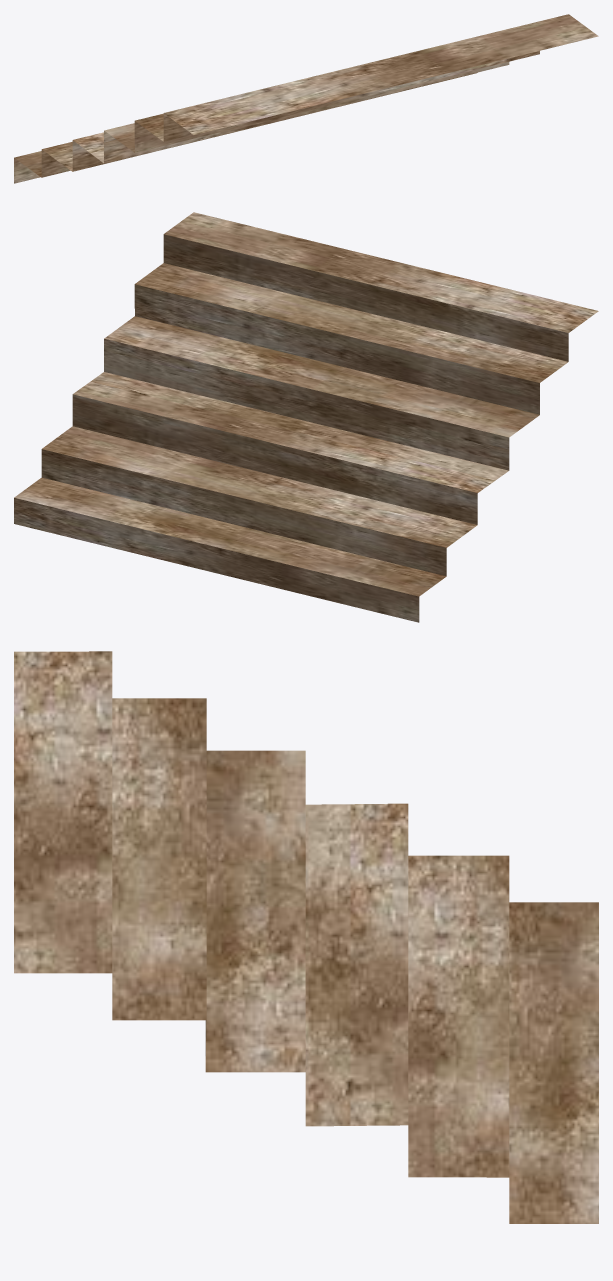
3 views of the same model, one above another, from view 1: azimuth 30°, elevation 25°; view 2: azimuth 150°, elevation 25°; view 3: azimuth 270°, elevation 25° (orthographic). The views are drawn at different scales.
Parts seen in each view (by area): view 1: Object95; view 2: Object95; view 3: Object95.
Boxes of the visible parts, x1,y1,x2,y2 form: Object95: (14, 14, 598, 183); Object95: (14, 212, 598, 622); Object95: (14, 651, 598, 1223).
Size of the model in its own units: 98.36 by 41.8 by 75.57.
